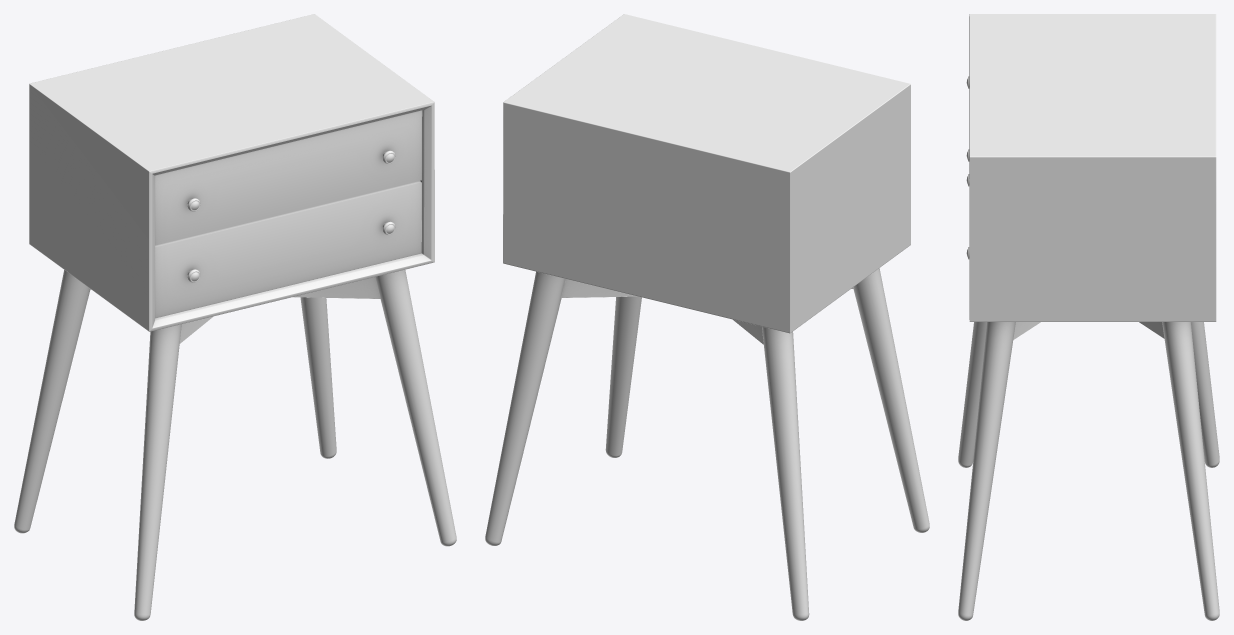
The model's file is table-1.glb.
3 views of the same model, side by side, from view 1: azimuth 30°, elevation 25°; view 2: azimuth 150°, elevation 25°; view 3: azimuth 270°, elevation 25° (orthographic). The views are drawn at different scales.
Parts seen in each view (by area): view 1: night_tabledresser_blank.1; view 2: night_tabledresser_blank.1; view 3: night_tabledresser_blank.1.
Boxes of the visible parts, x1,y1,x2,y2 form: night_tabledresser_blank.1: (14,14,456,620); night_tabledresser_blank.1: (485,14,929,620); night_tabledresser_blank.1: (958,14,1219,620).
Size of the model in its own units: 0.1165 by 0.1546 by 0.0802.
Materials: 1 (1 with a texture image).
